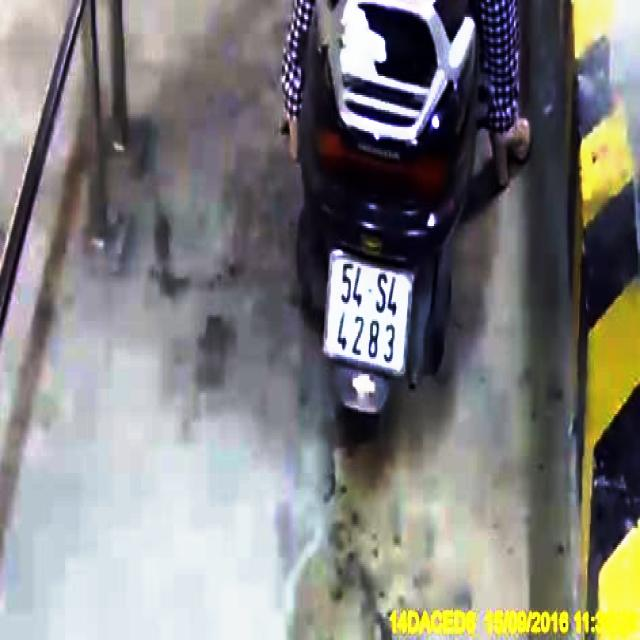license_plate: (318, 250, 415, 380)
